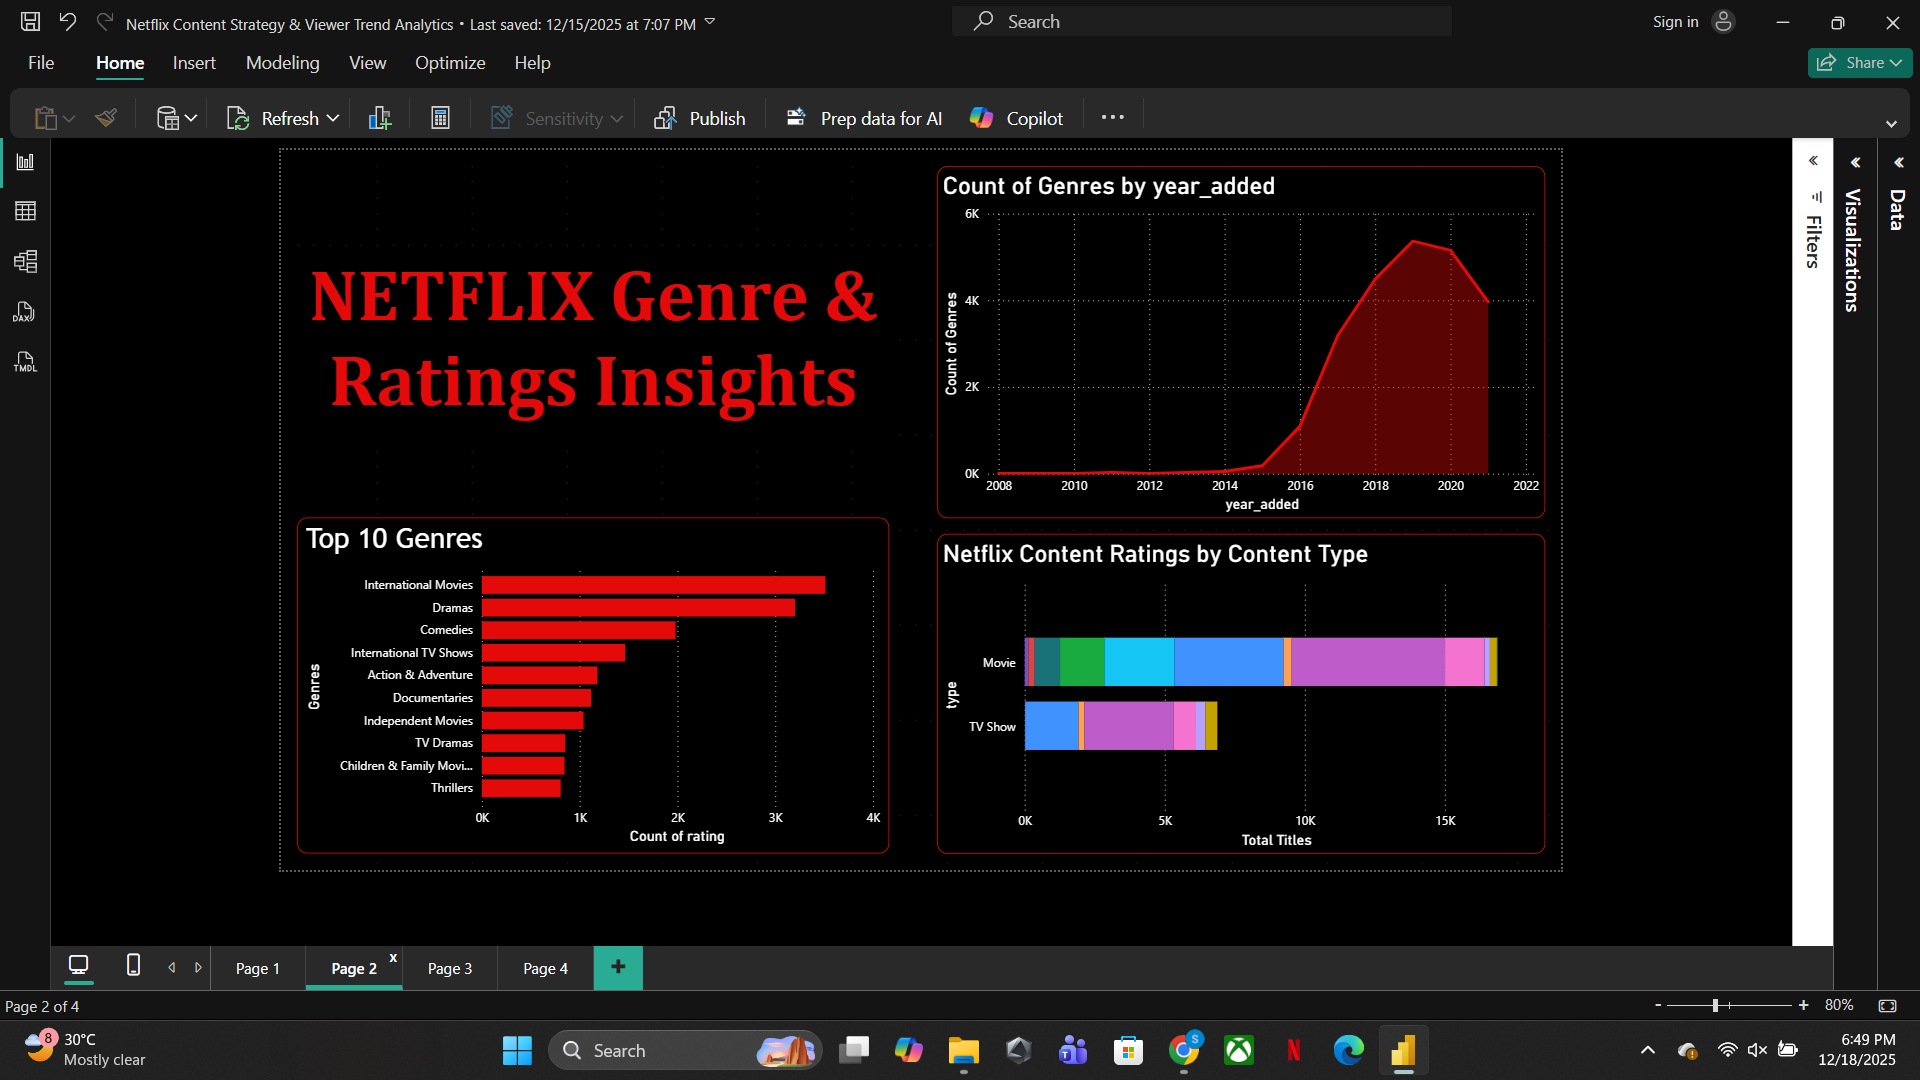

The dashboard page shown, as its layout file describes it:
{"tool":"powerbi","page":{"name":"Page 2","canvas":[1280,720],"ordinal":1},"visuals":[{"type":"clusteredBarChart","title":"Top 10 Genres","fields":{"Category":["cleaned_netflix_data.listed_in"],"Y":["CountNonNull(cleaned_netflix_data.rating)"]},"box":[16,368,592,336],"z":0},{"type":"barChart","title":"Netflix Content Ratings by Content Type","fields":{"Series":["cleaned_netflix_data.rating"],"Category":["cleaned_netflix_data.type"],"Y":["cleaned_netflix_data.Total Titles"]},"box":[656,384,608,320],"z":1000},{"type":"lineChart","fields":{"Category":["cleaned_netflix_data.year_added"],"Y":["CountNonNull(cleaned_netflix_data.Genres)"]},"box":[656,16,608,352],"z":2000},{"type":"textbox","box":[16,96,592,192],"z":3000}]}

Visuals, with their boxes on the page's 1280x720 design canvas (x1, y1, x2, y2). These are canvas units, not pixel positions in the 1920x1080 screenshot, which may show the page scaled, cropped or inside an application window:
"Top 10 Genres" clusteredBarChart: <region>16, 368, 608, 704</region>
"Netflix Content Ratings by Content Type" barChart: <region>656, 384, 1264, 704</region>
lineChart - cleaned_netflix_data.year_added x CountNonNull(cleaned_netflix_data.Genres): <region>656, 16, 1264, 368</region>
textbox: <region>16, 96, 608, 288</region>
